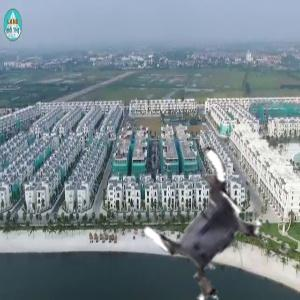drone: (139, 158, 279, 298)
